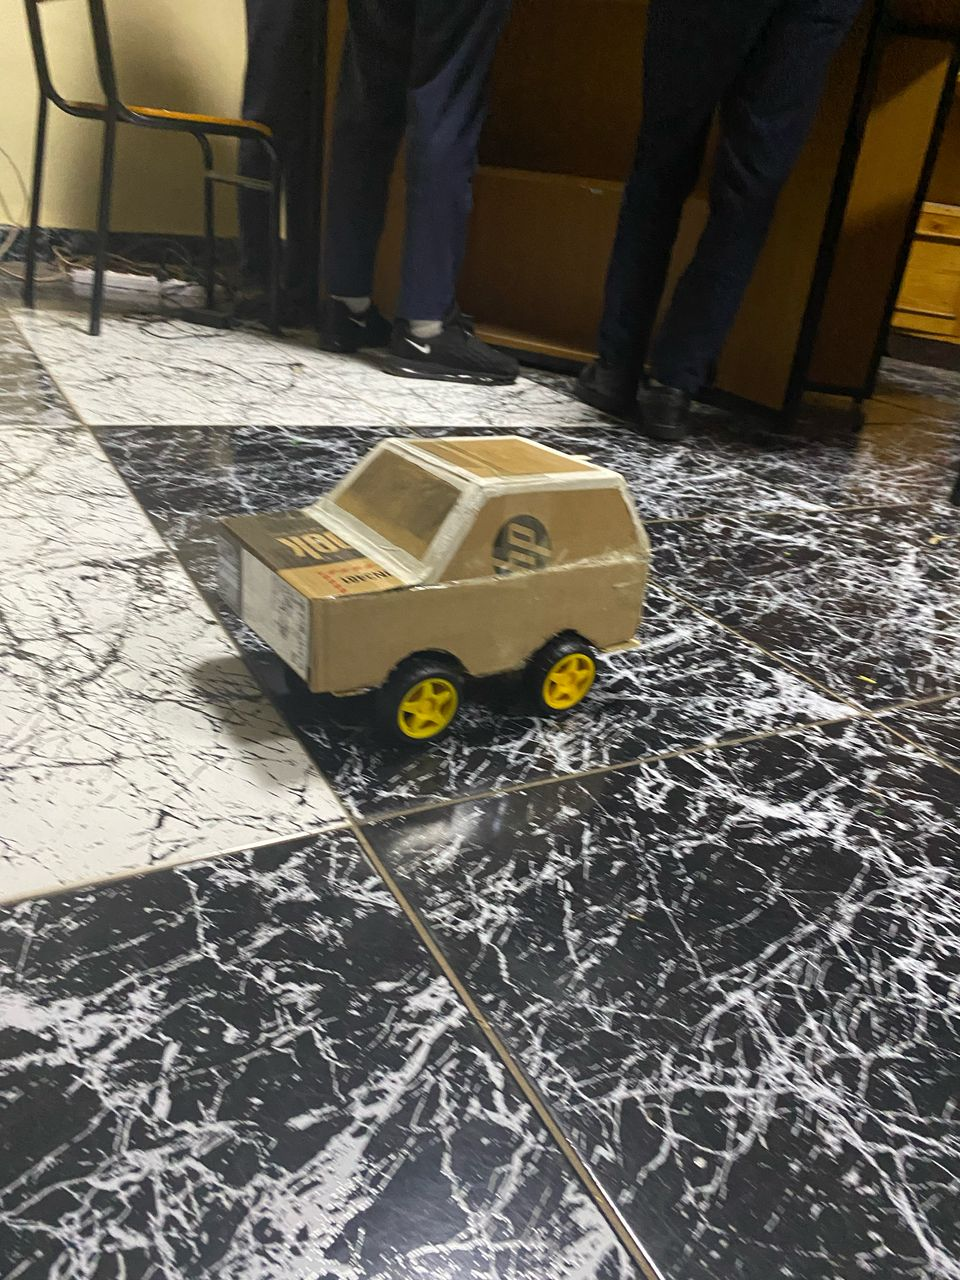toy-car: (278, 195, 796, 609)
